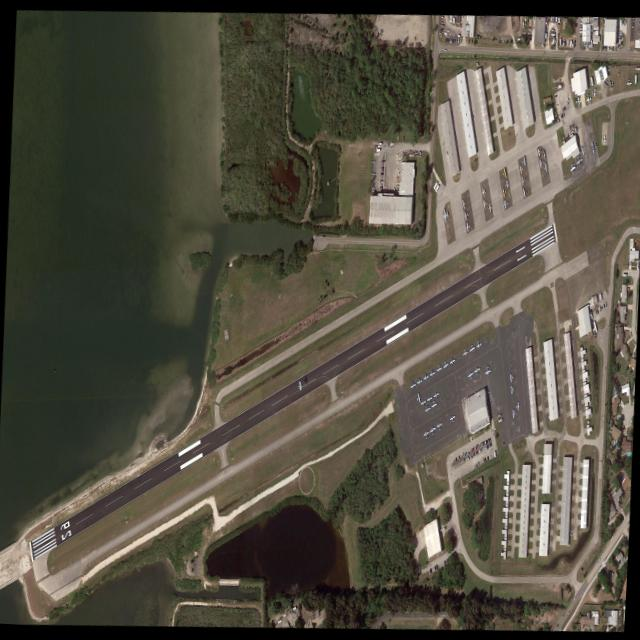large-vehicle: (434, 182, 440, 192), (432, 179, 438, 189), (438, 525, 445, 532), (603, 300, 607, 308), (497, 417, 502, 422), (493, 449, 496, 457), (574, 126, 577, 133), (636, 261, 638, 268), (579, 30, 582, 32)
plane: (589, 138, 597, 154), (574, 153, 582, 166), (428, 424, 436, 436), (442, 207, 448, 222), (481, 196, 487, 210), (483, 364, 490, 376), (466, 369, 473, 381), (502, 197, 508, 210), (521, 185, 527, 198), (422, 428, 429, 439), (435, 420, 442, 431), (448, 412, 455, 423), (473, 365, 480, 376), (461, 346, 468, 357), (520, 154, 526, 166), (574, 95, 580, 107), (462, 209, 468, 221), (432, 390, 439, 400), (441, 359, 448, 369), (474, 339, 481, 349), (296, 379, 302, 390), (569, 162, 575, 173), (480, 185, 485, 198), (486, 200, 491, 213), (415, 376, 422, 385), (430, 399, 436, 409), (501, 166, 506, 178), (520, 174, 525, 186), (602, 77, 608, 87), (461, 197, 466, 209), (424, 403, 430, 413), (415, 391, 420, 403), (422, 371, 428, 381), (448, 355, 454, 365), (503, 178, 508, 189), (501, 186, 506, 197), (518, 163, 523, 174), (542, 161, 547, 172), (538, 157, 543, 168), (536, 146, 541, 157), (579, 145, 584, 156), (585, 92, 590, 103), (464, 220, 469, 231), (511, 407, 516, 418), (508, 371, 513, 382), (426, 394, 432, 403), (409, 380, 415, 389), (428, 368, 434, 377), (435, 363, 441, 372), (468, 343, 474, 352), (591, 87, 596, 97), (420, 397, 425, 407), (625, 78, 631, 86), (515, 400, 519, 411), (541, 150, 545, 160), (509, 384, 513, 394), (601, 135, 605, 143)
ship: (588, 311, 592, 319), (596, 557, 600, 563), (483, 439, 486, 445), (540, 44, 544, 47), (445, 97, 448, 101), (488, 436, 490, 442), (485, 438, 487, 444), (487, 437, 489, 442), (527, 31, 530, 34), (605, 624, 607, 628)
small-vehicle: (598, 304, 601, 311), (558, 38, 561, 45), (401, 135, 404, 142), (435, 563, 438, 570), (473, 156, 477, 161), (595, 308, 598, 314), (610, 81, 613, 87), (449, 37, 452, 43), (461, 451, 464, 457), (392, 186, 395, 192), (566, 609, 569, 615), (566, 133, 569, 139), (556, 117, 559, 123), (478, 447, 481, 453), (553, 94, 557, 98), (497, 413, 501, 417), (464, 451, 467, 456), (476, 460, 479, 465), (555, 622, 558, 627), (562, 612, 565, 617), (572, 596, 575, 601), (568, 124, 571, 129), (561, 106, 564, 111), (631, 351, 634, 356), (483, 456, 486, 461), (475, 449, 478, 454), (470, 447, 473, 452), (443, 559, 445, 566), (530, 14, 532, 20), (619, 34, 621, 40), (629, 259, 631, 265), (594, 309, 596, 315), (617, 44, 619, 50), (555, 103, 558, 107), (560, 39, 562, 45), (562, 39, 564, 45), (559, 87, 562, 91), (589, 81, 591, 87), (451, 38, 453, 44), (464, 23, 466, 29), (465, 30, 469, 33), (467, 38, 469, 44), (462, 457, 464, 463), (380, 171, 383, 175), (429, 567, 431, 573), (578, 623, 580, 629), (564, 136, 566, 142), (560, 112, 562, 118), (579, 343, 582, 347), (467, 454, 469, 460), (471, 451, 473, 457), (474, 449, 476, 455), (476, 443, 478, 449), (622, 18, 624, 23), (619, 40, 621, 45), (620, 40, 622, 45), (621, 32, 623, 37), (621, 18, 623, 23), (624, 18, 626, 23), (616, 43, 618, 48), (602, 303, 604, 308), (600, 305, 602, 310), (532, 15, 534, 20), (564, 40, 566, 45), (570, 123, 572, 128), (567, 39, 569, 44), (566, 100, 568, 105), (590, 26, 592, 31), (584, 42, 586, 47), (607, 45, 609, 50), (611, 45, 613, 50), (556, 40, 558, 45), (556, 32, 558, 37), (454, 22, 456, 27), (459, 22, 461, 27), (455, 38, 457, 43), (456, 38, 458, 43), (470, 38, 472, 43), (466, 450, 468, 455), (457, 455, 459, 460), (463, 452, 465, 457), (448, 37, 450, 42), (444, 37, 446, 42), (428, 569, 430, 574), (433, 565, 435, 570), (446, 558, 448, 563), (486, 455, 488, 460), (565, 136, 567, 141), (562, 111, 564, 116), (489, 441, 491, 446), (487, 442, 489, 447), (470, 453, 472, 458), (472, 446, 474, 451), (473, 445, 475, 450), (479, 442, 481, 447), (481, 441, 483, 446), (482, 440, 484, 445), (486, 443, 488, 448), (484, 445, 486, 450), (631, 24, 634, 27), (626, 286, 629, 289), (579, 21, 582, 24), (465, 33, 468, 36), (396, 184, 399, 187), (371, 188, 374, 191), (379, 185, 382, 188), (380, 168, 383, 171), (381, 159, 384, 162), (443, 48, 446, 51), (548, 520, 551, 523), (569, 532, 572, 535), (618, 30, 620, 34), (619, 30, 621, 34), (616, 19, 618, 23), (613, 46, 615, 50), (566, 97, 568, 101), (453, 38, 455, 42), (454, 457, 456, 461), (321, 235, 325, 237), (379, 180, 383, 182), (563, 105, 565, 109), (475, 463, 477, 467), (618, 504, 620, 508), (617, 506, 619, 510), (559, 114, 561, 118), (473, 451, 475, 455), (478, 443, 480, 447), (588, 41, 589, 48), (620, 19, 621, 25), (579, 27, 582, 29), (583, 41, 584, 47), (586, 41, 587, 47), (527, 26, 530, 28), (550, 28, 553, 30), (552, 20, 555, 22), (557, 22, 559, 25), (440, 24, 443, 26), (396, 181, 399, 183), (381, 166, 383, 169), (586, 625, 588, 628), (538, 521, 539, 527), (625, 329, 627, 332), (618, 34, 619, 39), (609, 45, 610, 50), (589, 42, 590, 47), (554, 38, 555, 43), (447, 37, 448, 42), (446, 37, 447, 42), (502, 440, 503, 445), (582, 623, 583, 628), (482, 457, 483, 462), (475, 444, 476, 449), (632, 19, 634, 21), (579, 35, 581, 37), (603, 44, 604, 48), (372, 186, 374, 188)
